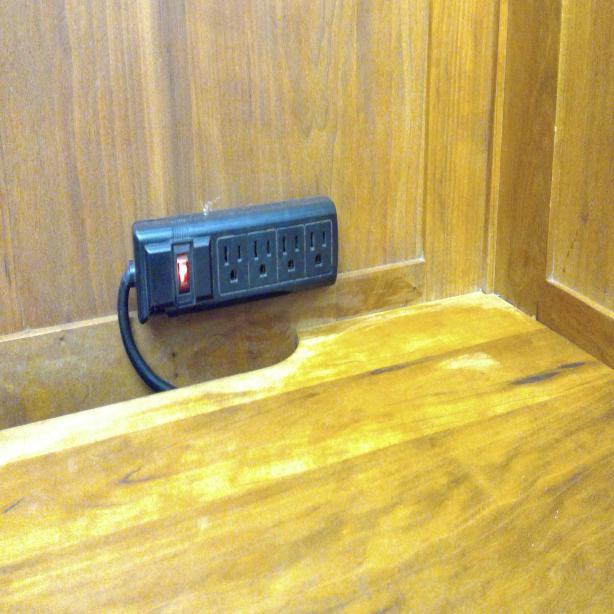typeb: (215, 234, 246, 291), (249, 234, 279, 285), (277, 231, 305, 280), (305, 223, 330, 274)
